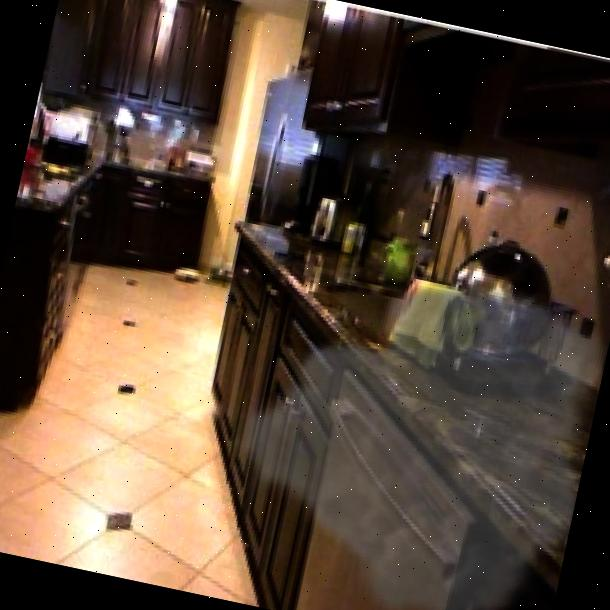smoke: (196, 230, 610, 610)
